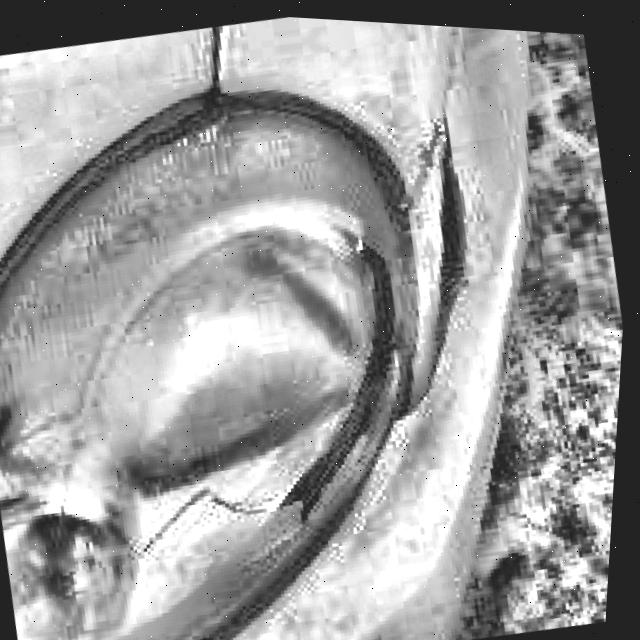head_lamp: (140, 58, 537, 573)
